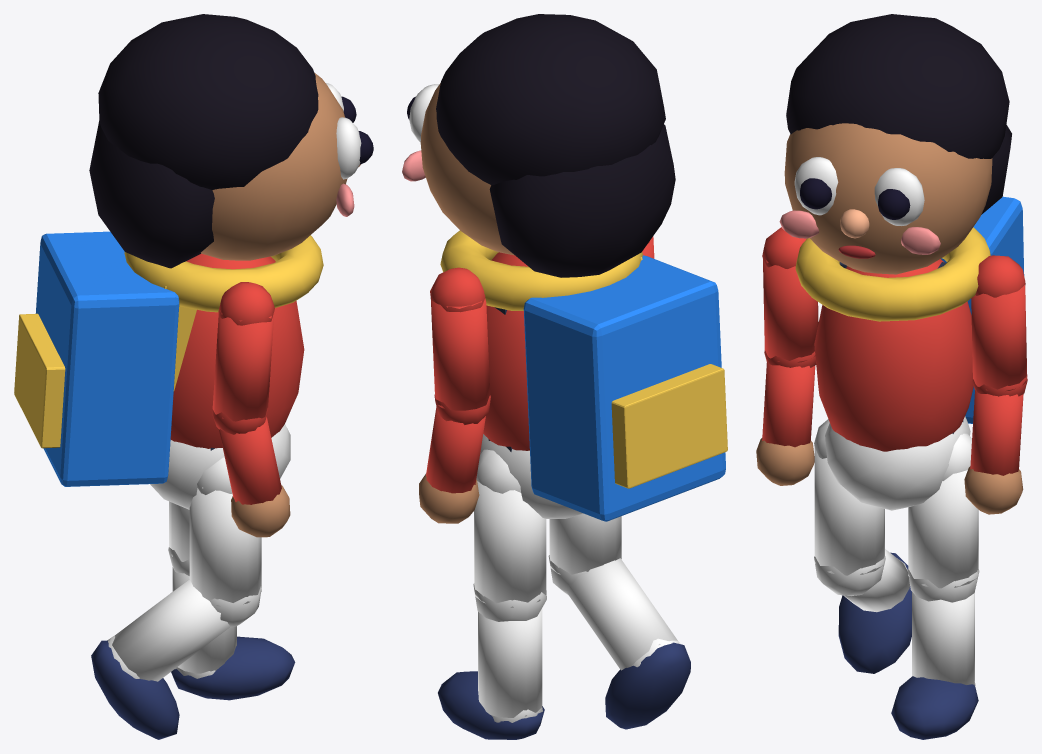
The model's file is hrdina_3_chuze.glb.
3 views of the same model, side by side, from view 1: azimuth 30°, elevation 25°; view 2: azimuth 150°, elevation 25°; view 3: azimuth 270°, elevation 25° (orthographic). The views are drawn at different scales.
Visible parts, largest first — view 1: Sphere.011, Cube.001, Sphere.002, Sphere.012, Sphere, Torus, Cylinder.005, Cylinder.004, Cylinder, Cube.002, Sphere.030, Sphere.025 (+11 smaller); view 2: Cube.001, Sphere.011, Sphere.012, Cube.002, Cylinder.006, Cylinder.005, Cylinder.007, Sphere, Torus, Cylinder.002, Sphere.002, Sphere.025 (+11 smaller); view 3: Sphere.011, Sphere, Sphere.002, Torus, Sphere.001, Cylinder.006, Cylinder.004, Cylinder.007, Cylinder.002, Cylinder, Sphere.025, Sphere.030 (+21 smaller).
Boxes of the visible parts, x1=… form: Sphere.011: x1=98, y1=14, x2=318, y2=190; Cube.001: x1=35, y1=231, x2=179, y2=486; Sphere.002: x1=201, y1=73, x2=347, y2=260; Sphere.012: x1=89, y1=121, x2=214, y2=268; Sphere: x1=170, y1=253, x2=304, y2=448; Torus: x1=124, y1=235, x2=323, y2=312; Cylinder.005: x1=109, y1=579, x2=230, y2=681; Cylinder.004: x1=189, y1=487, x2=261, y2=606; Cylinder: x1=212, y1=308, x2=274, y2=421; Cube.002: x1=14, y1=313, x2=65, y2=448; Sphere.030: x1=171, y1=636, x2=295, y2=700; Sphere.025: x1=91, y1=640, x2=179, y2=739; Cube.001: x1=523, y1=255, x2=725, y2=521; Sphere.011: x1=436, y1=14, x2=665, y2=185; Sphere.012: x1=489, y1=124, x2=675, y2=277; Cube.002: x1=611, y1=364, x2=727, y2=488; Cylinder.006: x1=474, y1=481, x2=546, y2=607; Cylinder.005: x1=567, y1=558, x2=677, y2=670; Cylinder.007: x1=478, y1=608, x2=542, y2=717; Sphere: x1=483, y1=252, x2=529, y2=450; Torus: x1=440, y1=230, x2=642, y2=310; Cylinder.002: x1=430, y1=298, x2=490, y2=410; Sphere.002: x1=420, y1=83, x2=514, y2=255; Sphere.025: x1=605, y1=642, x2=690, y2=729; Sphere.011: x1=786, y1=14, x2=1009, y2=158; Sphere: x1=814, y1=259, x2=973, y2=451; Sphere.002: x1=784, y1=123, x2=992, y2=274; Torus: x1=795, y1=227, x2=990, y2=321; Sphere.001: x1=825, y1=416, x2=970, y2=510; Cylinder.006: x1=908, y1=470, x2=978, y2=588; Cylinder.004: x1=814, y1=448, x2=884, y2=575; Cylinder.007: x1=912, y1=592, x2=974, y2=684; Cylinder.002: x1=971, y1=280, x2=1027, y2=391; Cylinder: x1=763, y1=259, x2=818, y2=362; Sphere.025: x1=838, y1=552, x2=911, y2=673; Sphere.030: x1=891, y1=676, x2=978, y2=739.
Size of the model in its own units: 0.6011 by 1.27 by 0.4564.
